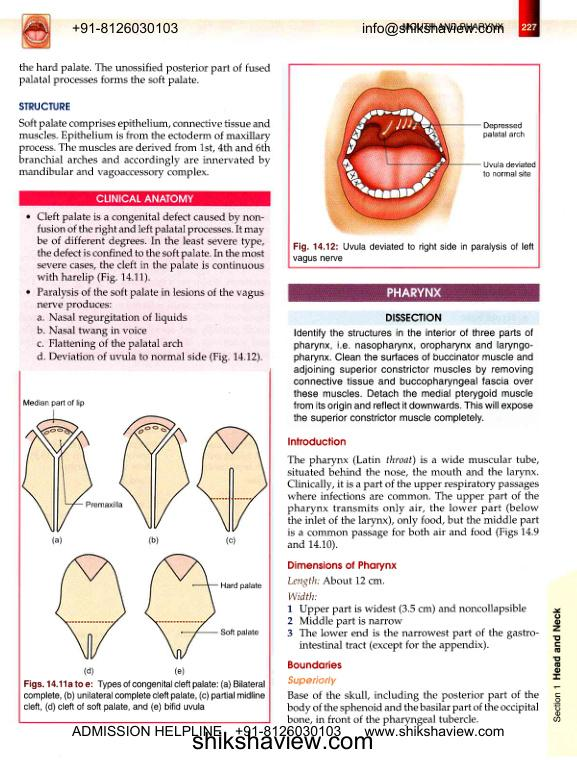caption: (23, 679, 266, 713), (292, 241, 535, 264), (95, 193, 195, 203), (385, 312, 443, 323), (173, 666, 186, 677), (147, 535, 159, 546), (83, 666, 95, 677), (225, 535, 237, 545), (51, 536, 63, 545)
image: (18, 371, 272, 724), (287, 62, 541, 270)
list: (23, 210, 266, 364), (286, 603, 540, 653)
section-heading: (386, 286, 443, 299)
sub-section-heading: (286, 560, 398, 571), (287, 435, 347, 447), (18, 100, 73, 112), (287, 659, 342, 670), (287, 675, 337, 686), (287, 575, 320, 588), (287, 591, 318, 602)
text: (285, 453, 542, 552), (292, 326, 535, 425), (17, 117, 272, 180), (286, 689, 542, 726), (18, 61, 272, 87), (321, 576, 386, 586)
